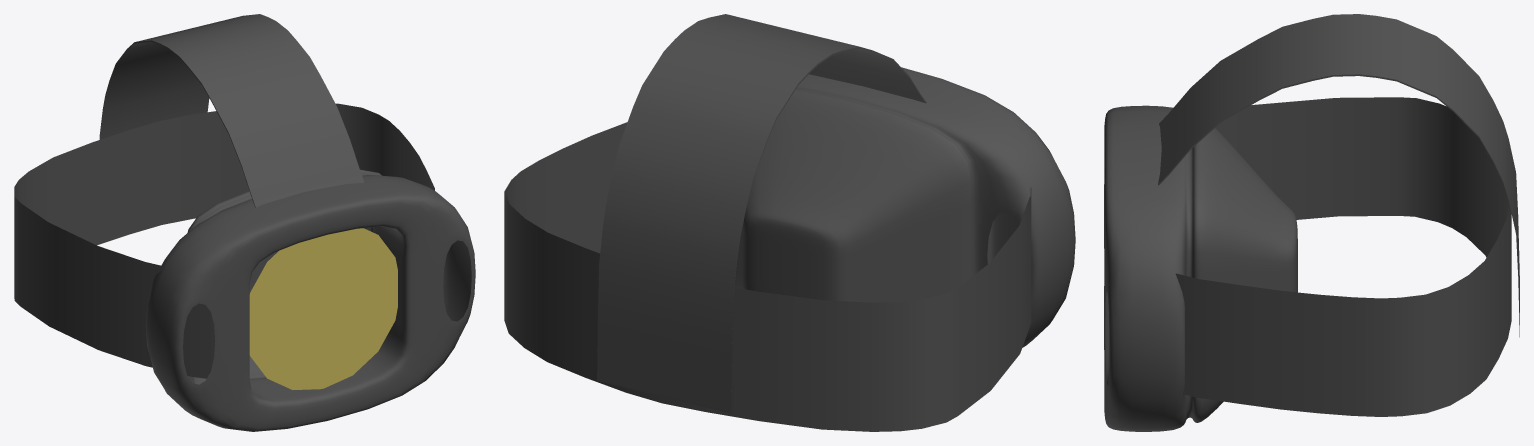
Rendered from Light.fbx.
3 renders of one model, left to right at view 1: azimuth 30°, elevation 25°; view 2: azimuth 150°, elevation 25°; view 3: azimuth 270°, elevation 25°, orthographic. The views are drawn at different scales.
Visible parts, largest first — view 1: Cube_1, Cube_2, Cube, Disc_1; view 2: Cube_1, Cube_2, Cube; view 3: Cube_2, Cube_1, Cube.
Boxes of the visible parts, x1,y1,x2,y2 form: Cube_1: (145, 169, 475, 431); Cube_2: (14, 103, 434, 378); Cube: (99, 14, 364, 207); Disc_1: (249, 228, 397, 389); Cube_1: (734, 67, 1075, 347); Cube_2: (504, 122, 1031, 431); Cube: (597, 14, 926, 413); Cube_2: (1175, 97, 1511, 416); Cube_1: (1104, 105, 1297, 431); Cube: (1158, 14, 1519, 337).
Bounding box in the file's own units: 925 × 750 × 808.
